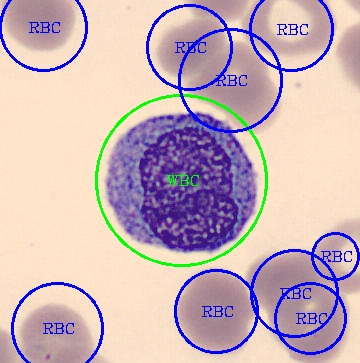RBC: (185, 40, 281, 137), (172, 265, 256, 358), (264, 276, 351, 361), (241, 0, 338, 63), (16, 300, 97, 362), (244, 246, 320, 311), (153, 17, 227, 80), (0, 0, 77, 53), (312, 212, 358, 296)
WBC: (101, 110, 262, 255)
